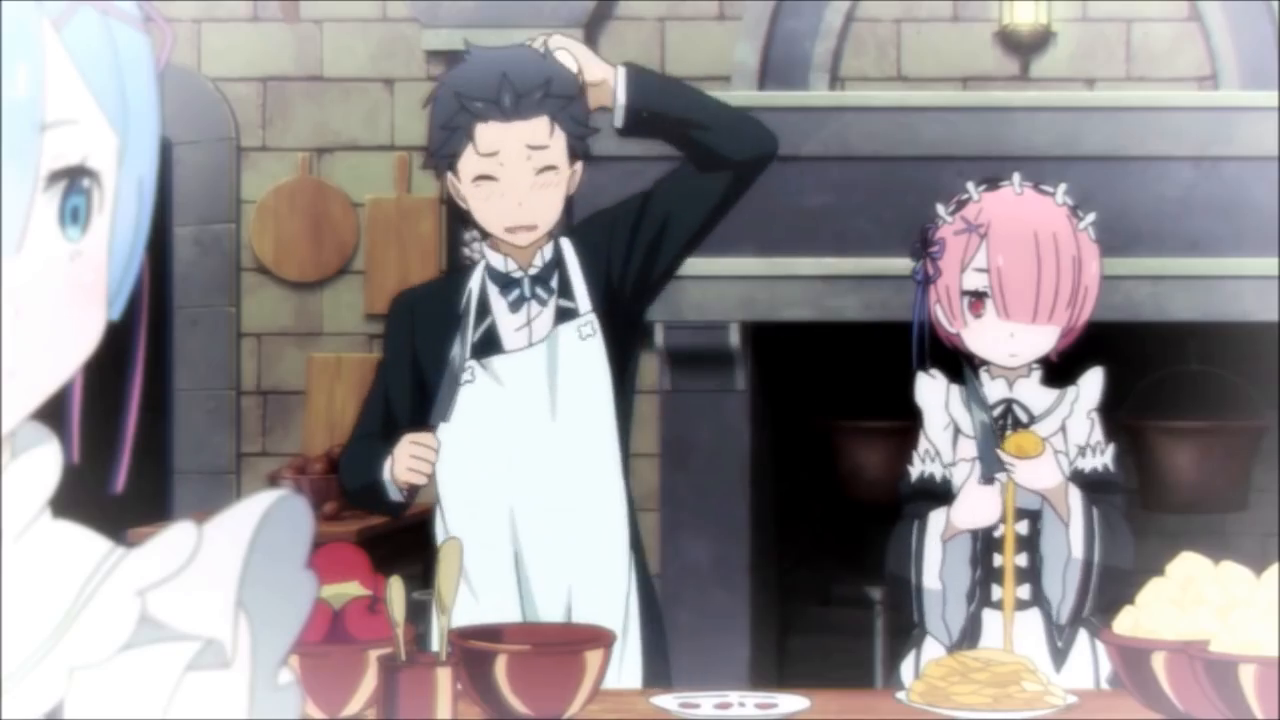REM: (1, 1, 165, 440)
